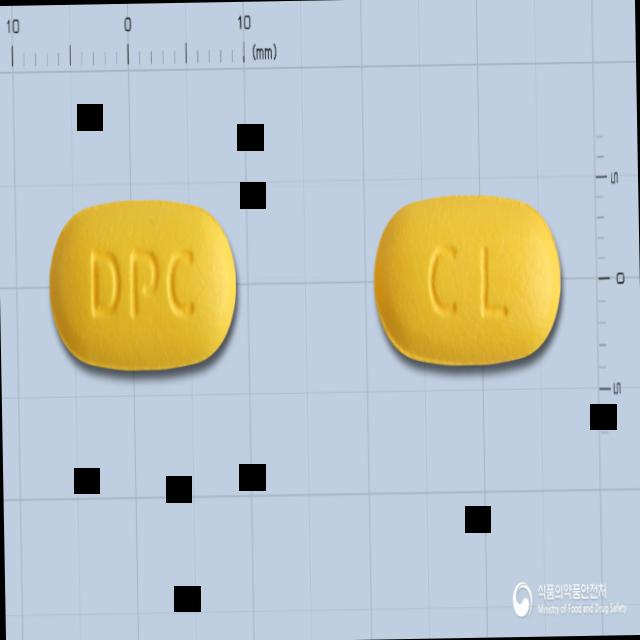Cefac Cap: (49, 198, 240, 374), (374, 196, 564, 367)
